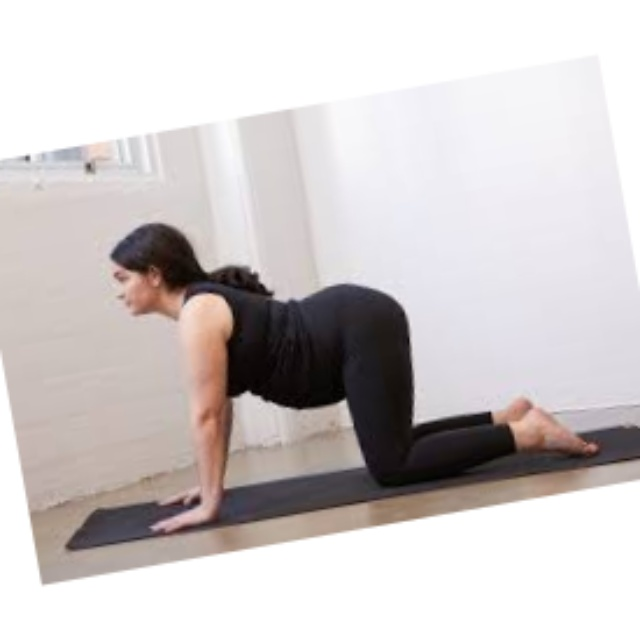Cow_Pose: (109, 221, 602, 535)
